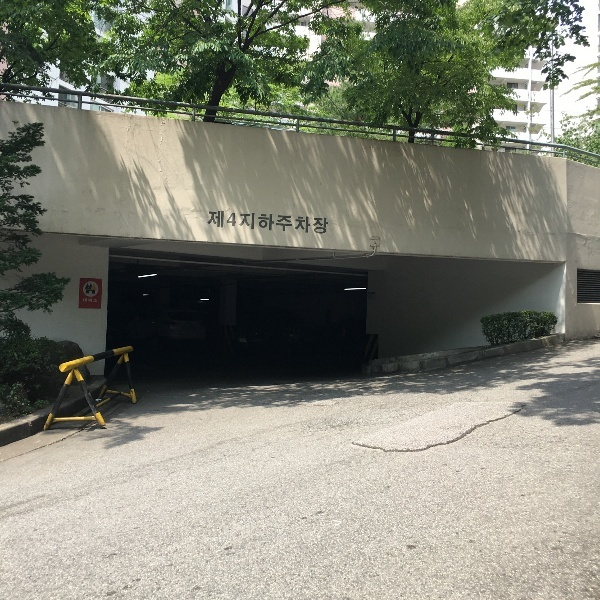text: (289, 214, 304, 236), (305, 214, 320, 236), (241, 212, 256, 232), (257, 212, 272, 232), (209, 210, 224, 229), (277, 214, 288, 236), (225, 210, 237, 229), (321, 214, 329, 236), (369, 295, 384, 300), (83, 298, 96, 302), (273, 212, 275, 232), (97, 298, 98, 302)
